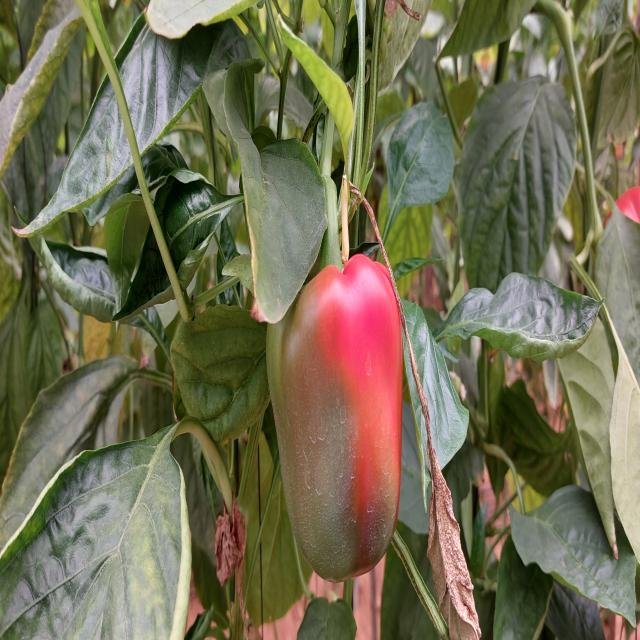BrownishRed--Can-be-Harvested: (265, 254, 413, 592)
